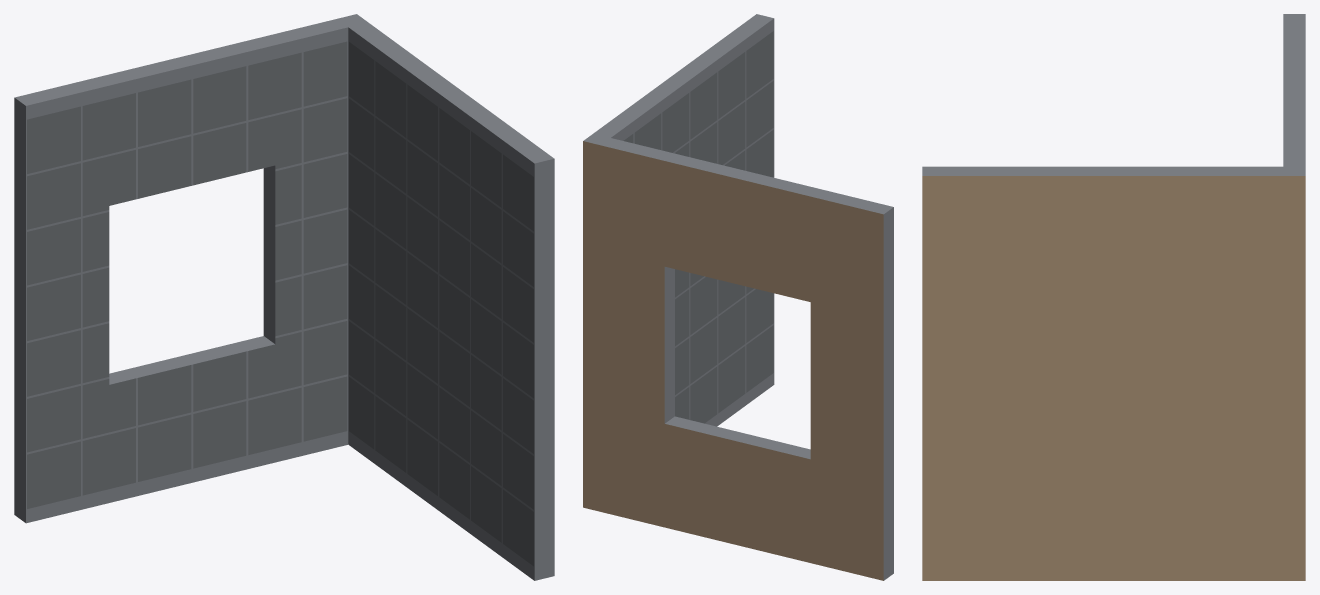
Rendered from Wall2_C7_10.fbx.
3 renders of one model, left to right at view 1: azimuth 30°, elevation 25°; view 2: azimuth 150°, elevation 25°; view 3: azimuth 270°, elevation 25°, orthographic. The views are drawn at different scales.
Parts seen in each view (by area): view 1: Wall2_C7_10; view 2: Wall2_C7_10; view 3: Wall2_C7_10.
Boxes of the visible parts, x1,y1,x2,y2 form: Wall2_C7_10: [14, 14, 554, 580]; Wall2_C7_10: [583, 14, 893, 580]; Wall2_C7_10: [922, 14, 1305, 580].
Bounding box in the file's own units: 258 × 300 × 258.
